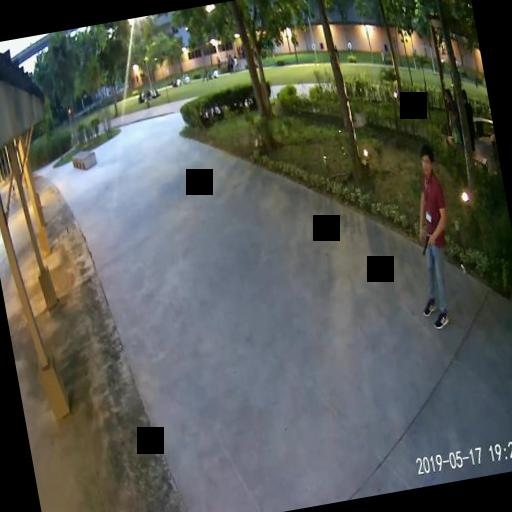Handgun: (418, 232, 434, 254)
